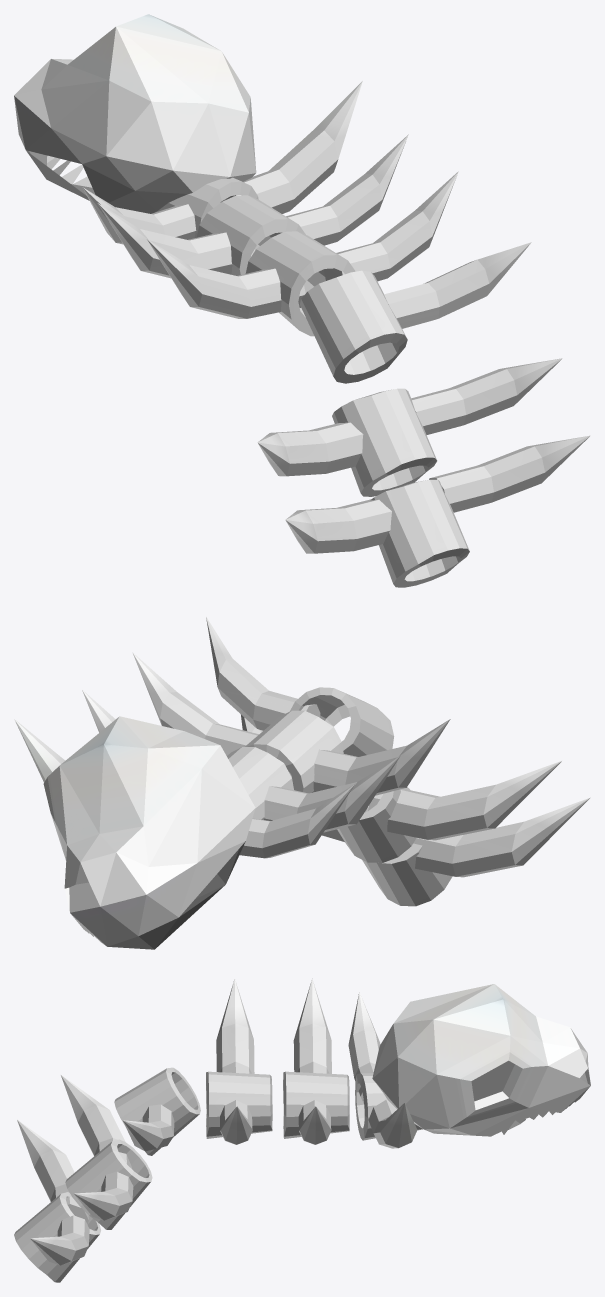
The model's file is Dino1.glb.
3 views of the same model, one above another, from view 1: azimuth 30°, elevation 25°; view 2: azimuth 150°, elevation 25°; view 3: azimuth 270°, elevation 25° (orthographic). The views are drawn at different scales.
Parts seen in each view (by area): view 1: Dino1; view 2: Dino1; view 3: Dino1.
Boxes of the visible parts, bbox=[...] form: Dino1: bbox=[14, 14, 590, 587]; Dino1: bbox=[14, 617, 590, 949]; Dino1: bbox=[14, 978, 590, 1282].
Bounding box in the file's own units: 7.59 × 8.13 × 14.88.
Materials: 1 (1 with a texture image).
